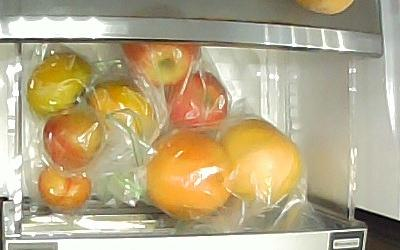apple_vinyl: (165, 71, 228, 132), (121, 45, 201, 87)
grapefruit_vinyl: (147, 131, 234, 220), (220, 118, 301, 203)
persimmon_vinyl: (26, 54, 92, 116), (88, 81, 155, 140)
prune_vinyl: (43, 110, 103, 168), (38, 165, 92, 214)
